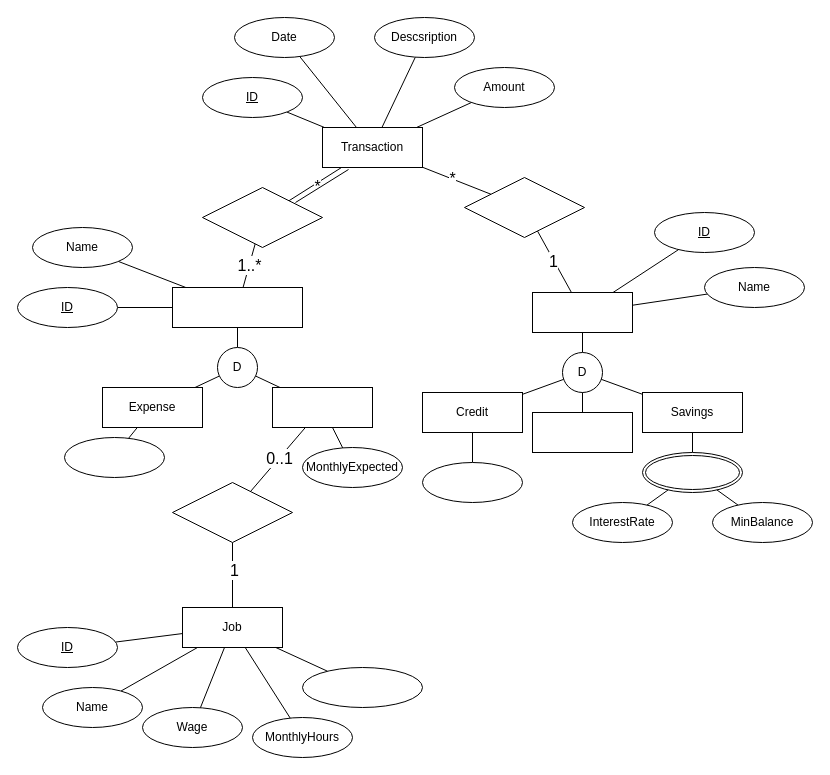
This 830x775 diagram has some shape labels left out. Here are the shapes that lost their labels. From the top down, the centre of each, then its label:
the point at 262,217: Belongs to
the point at 524,207: Applies to
the point at 237,307: TransactionCategory
the point at 582,312: PaymentAccount
the point at 322,407: Income
the point at 582,432: Debit
the point at 114,457: MonthlyBudget
the point at 692,472: APR
the point at 472,482: Limit
the point at 232,512: Comes from
the point at 362,687: MonthlyMissHours
